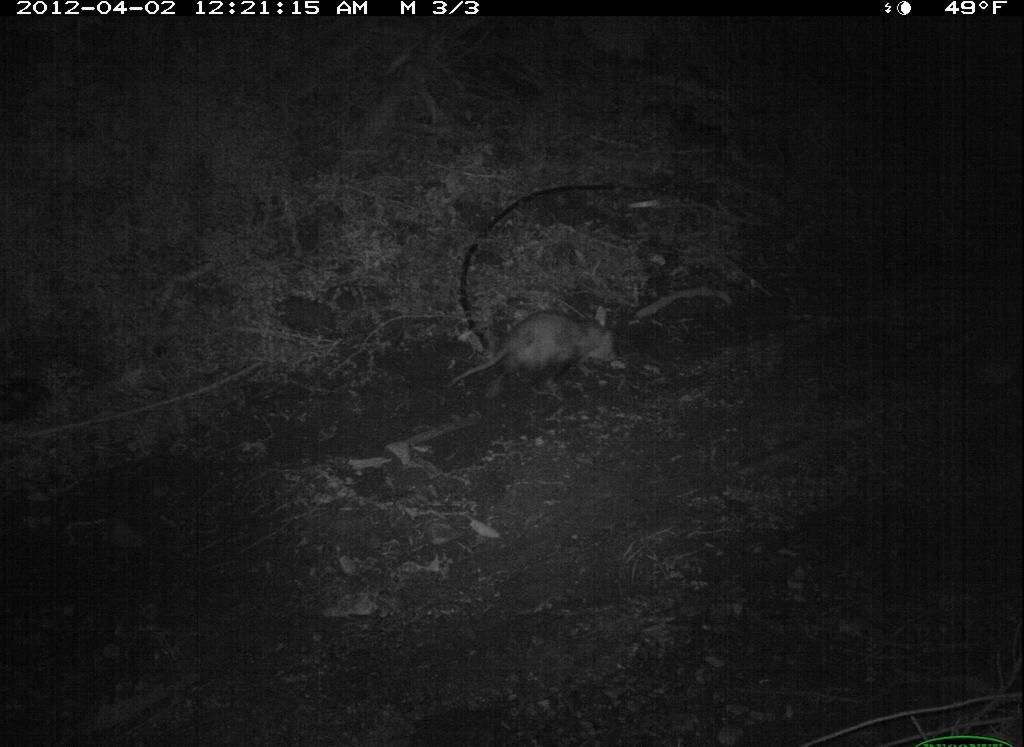opossum: (432, 300, 626, 411)
